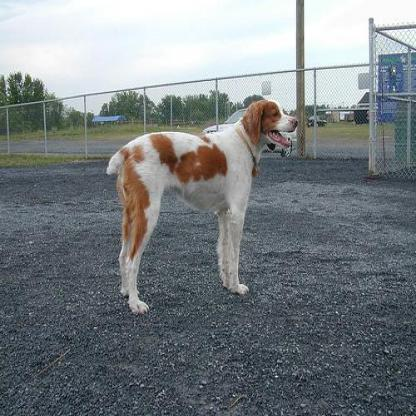Brittany_spaniel: (102, 95, 297, 310)
